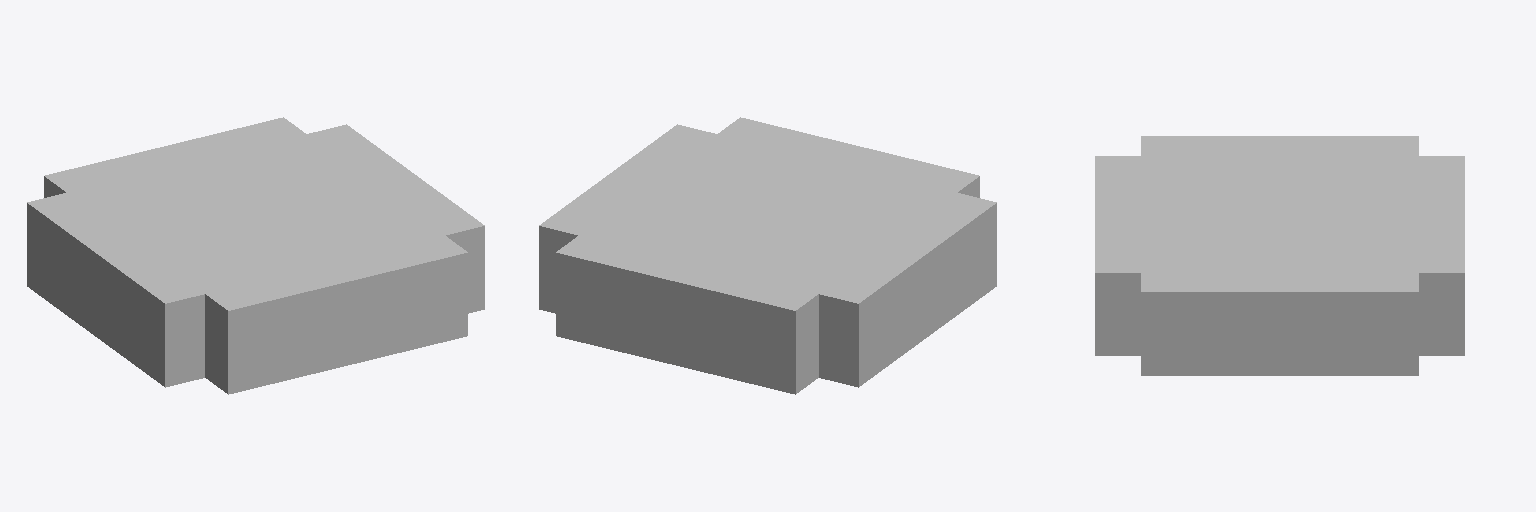
The model's file is meat.obj.
The picture shows the model from 3 angles: view 1: azimuth 30°, elevation 25°; view 2: azimuth 150°, elevation 25°; view 3: azimuth 270°, elevation 25°; orthographic projection.
Bounding box in the file's own units: 8 × 2 × 8.